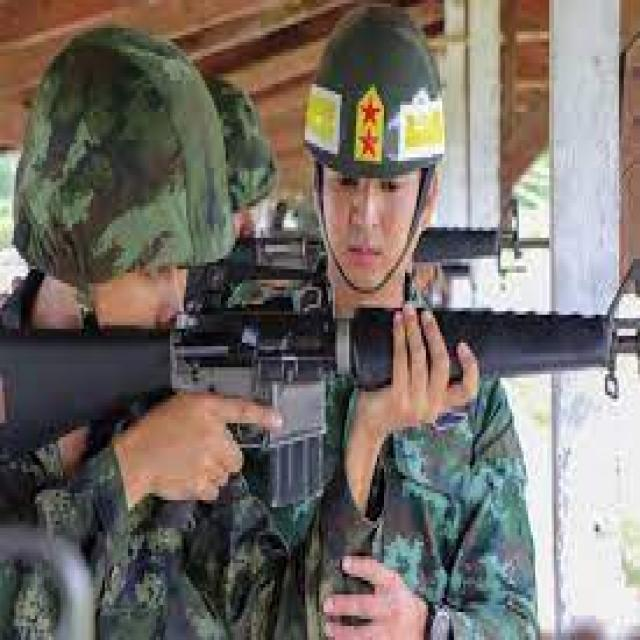m16: (117, 274, 580, 486)
